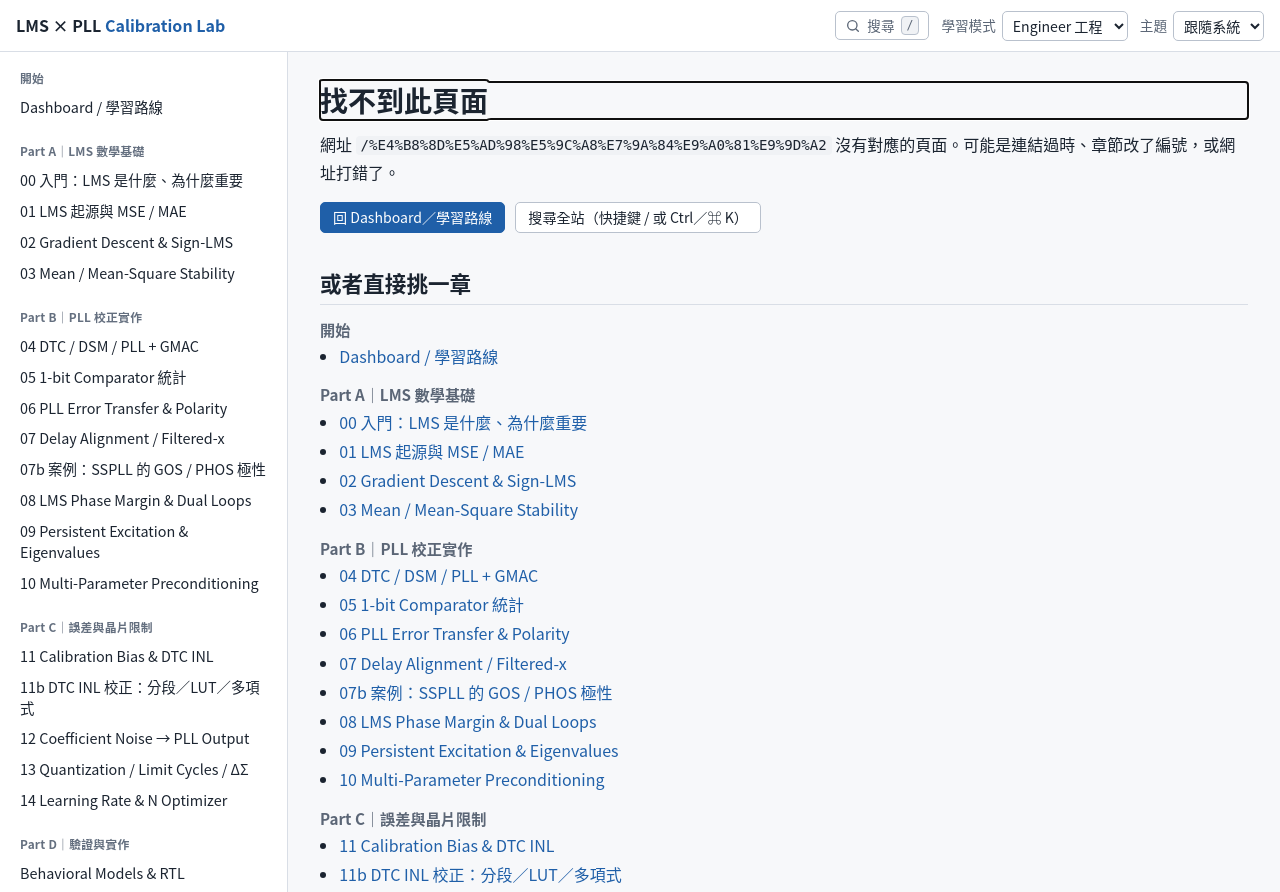
Test: App：未知的路由顯示 404 頁 › path="*" 是 NotFound：標題、三個出路；「搜尋全站」打開全站搜尋面板
Expected: the heading "找不到此頁面" is shown, [320,80,488,120]
Expected: the link "回 Dashboard／學習路線" is shown, [320,202,505,233]
Click the button "搜尋全站（快捷鍵 / 或 Ctrl／⌘ K）". click: [638, 218]
box: [515,202,761,233]
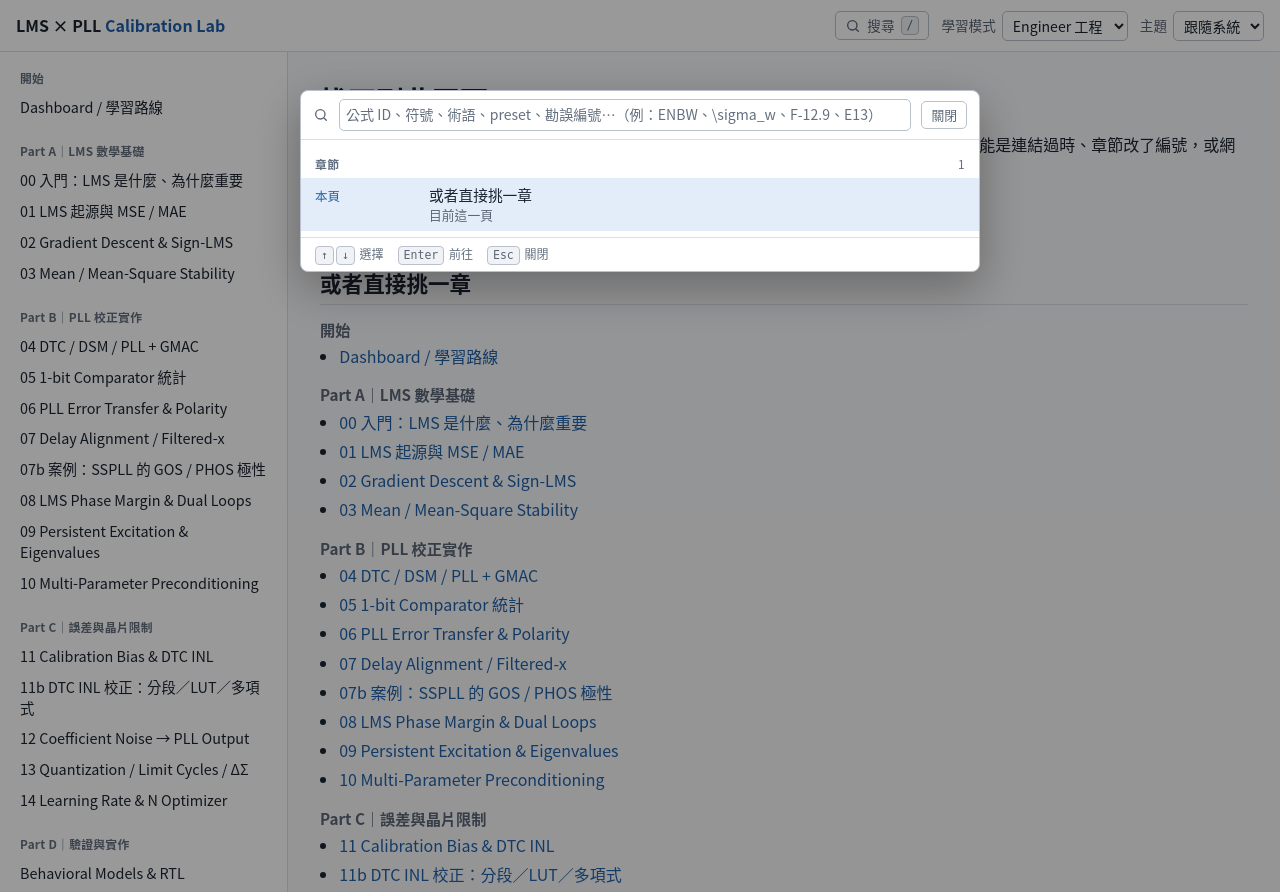
Expected: the dialog named "搜尋全站" is shown, [300,90,980,272]
